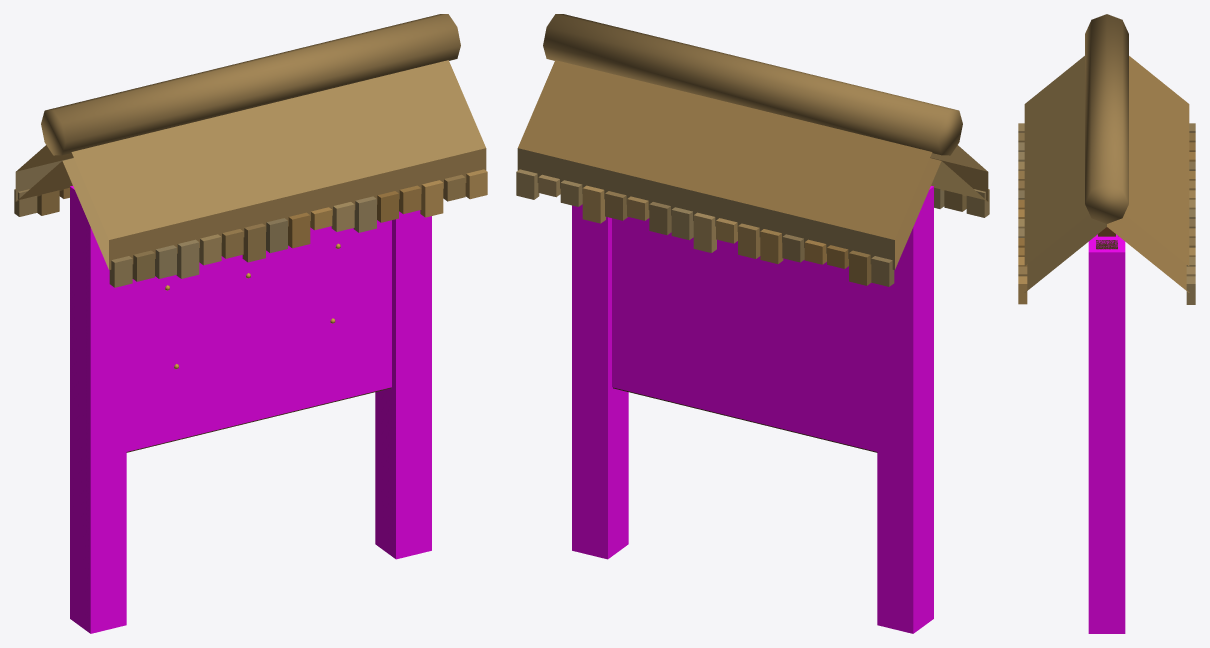
The model's file is ENV_Notice_Board_A.glb.
3 renders of one model, left to right at view 1: azimuth 30°, elevation 25°; view 2: azimuth 150°, elevation 25°; view 3: azimuth 270°, elevation 25°, orthographic. The views are drawn at different scales.
Parts seen in each view (by area): view 1: ENV_Notice_Board_A_Roof, COL_Board, COL_Post_-1, COL_Post_1; view 2: ENV_Notice_Board_A_Roof, COL_Board, COL_Post_-1, COL_Post_1; view 3: ENV_Notice_Board_A_Roof, COL_Post_1, ENV_Notice_Board_A_Mesh.
Part boxes in pixels (x1,y1,x2,y2): ENV_Notice_Board_A_Roof: (14, 14, 487, 287); COL_Board: (126, 220, 391, 451); COL_Post_-1: (70, 186, 126, 633); COL_Post_1: (375, 210, 431, 559); ENV_Notice_Board_A_Roof: (516, 14, 989, 286); COL_Board: (612, 217, 877, 451); COL_Post_-1: (877, 186, 933, 633); COL_Post_1: (572, 204, 628, 559); ENV_Notice_Board_A_Roof: (1018, 14, 1195, 304); COL_Post_1: (1088, 236, 1125, 633); ENV_Notice_Board_A_Mesh: (1095, 227, 1117, 249).
Bounding box in the file's own units: 2.2 × 2.78 × 0.97.
